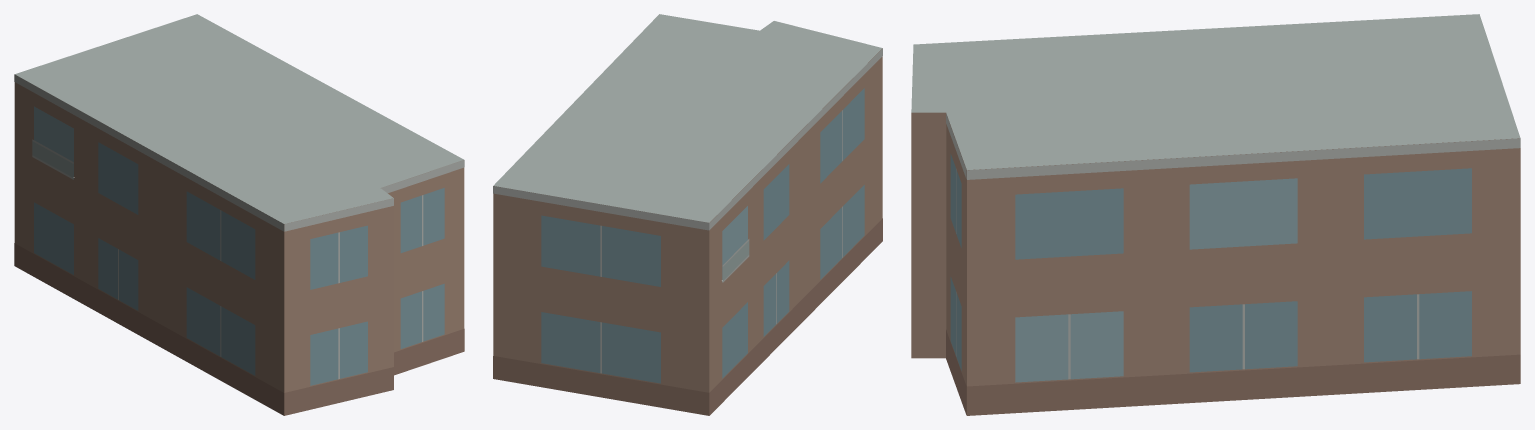
File: survey-upis-32879081.glb
3 views of the same model, side by side, from view 1: azimuth 30°, elevation 25°; view 2: azimuth 150°, elevation 25°; view 3: azimuth 270°, elevation 25° (orthographic). The views are drawn at different scales.
Parts seen in each view (by area): view 1: survey-upis-32879081.tmp; view 2: survey-upis-32879081.tmp; view 3: survey-upis-32879081.tmp.
Part boxes in pixels (left/top/right/bottom): survey-upis-32879081.tmp: left=14, top=14, right=464, bottom=415; survey-upis-32879081.tmp: left=493, top=14, right=882, bottom=415; survey-upis-32879081.tmp: left=911, top=14, right=1520, bottom=415.
Bounding box in the file's own units: 8.32 × 6.1 × 13.72.
